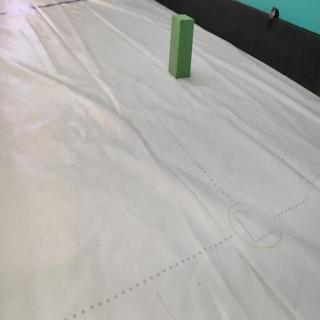greenbox: (167, 13, 194, 78)
